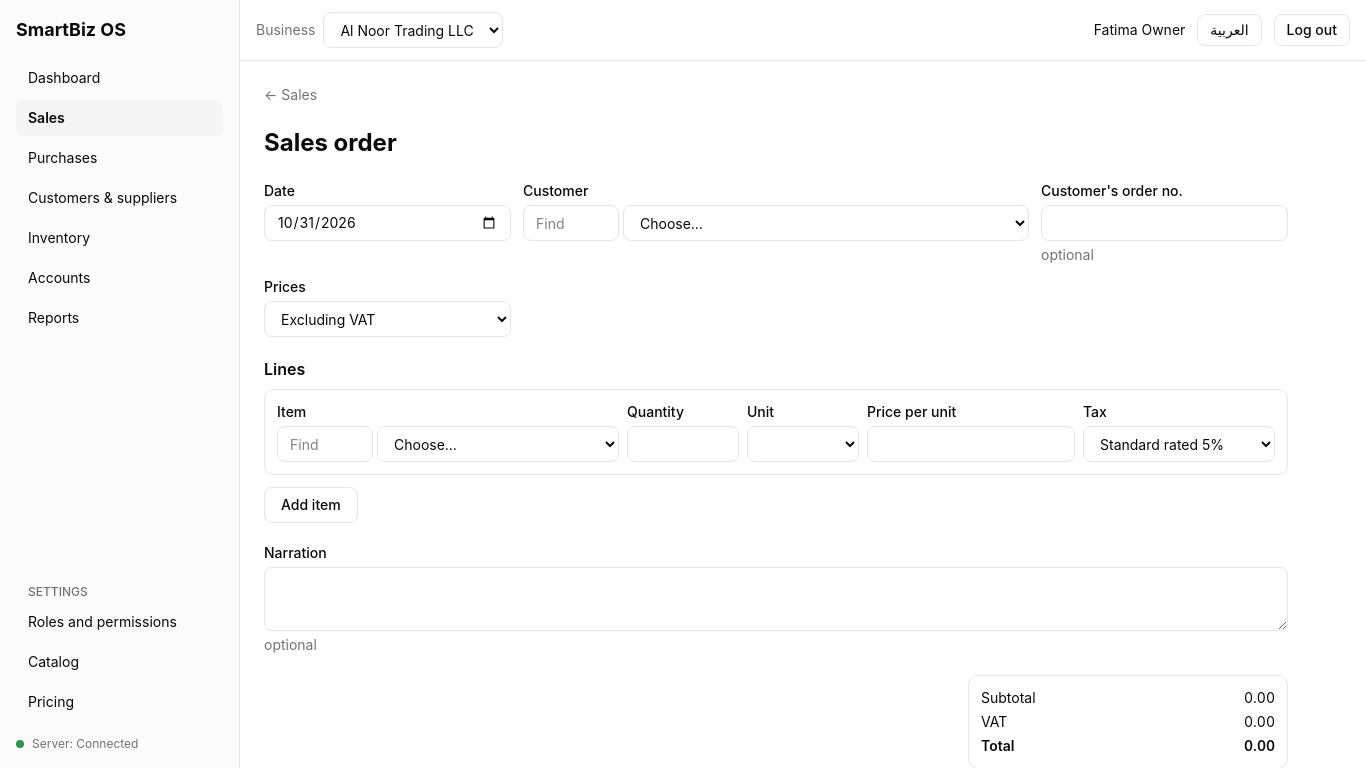
Test: Sales screens › lets someone allowed post past a credit block with a reason
Select "C0001 Ali Traders" in the dropdown labelled "Customer" at (826, 223), box x1=623 y1=205 x2=1029 y2=241
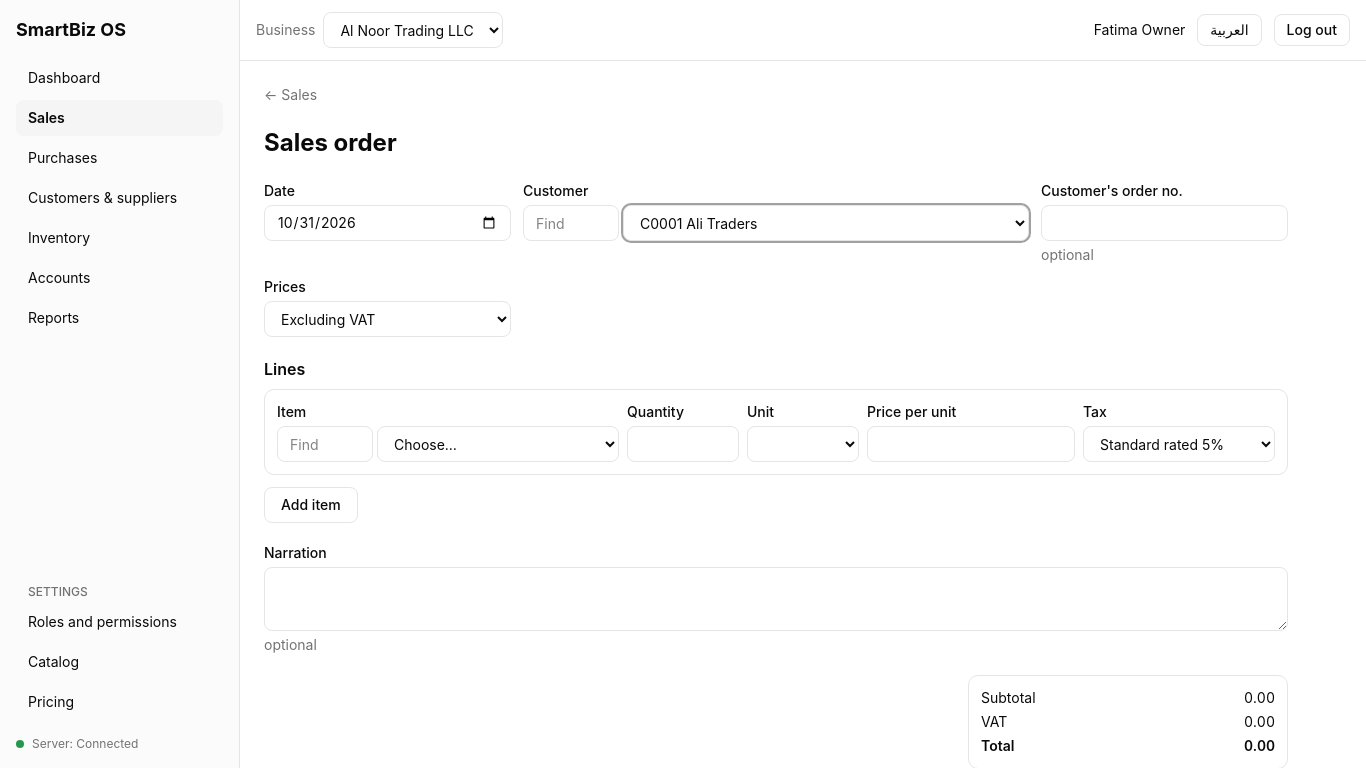
Select "FAB Fabric" in the dropdown labelled "Item" at (498, 444), box x1=377 y1=426 x2=619 y2=462
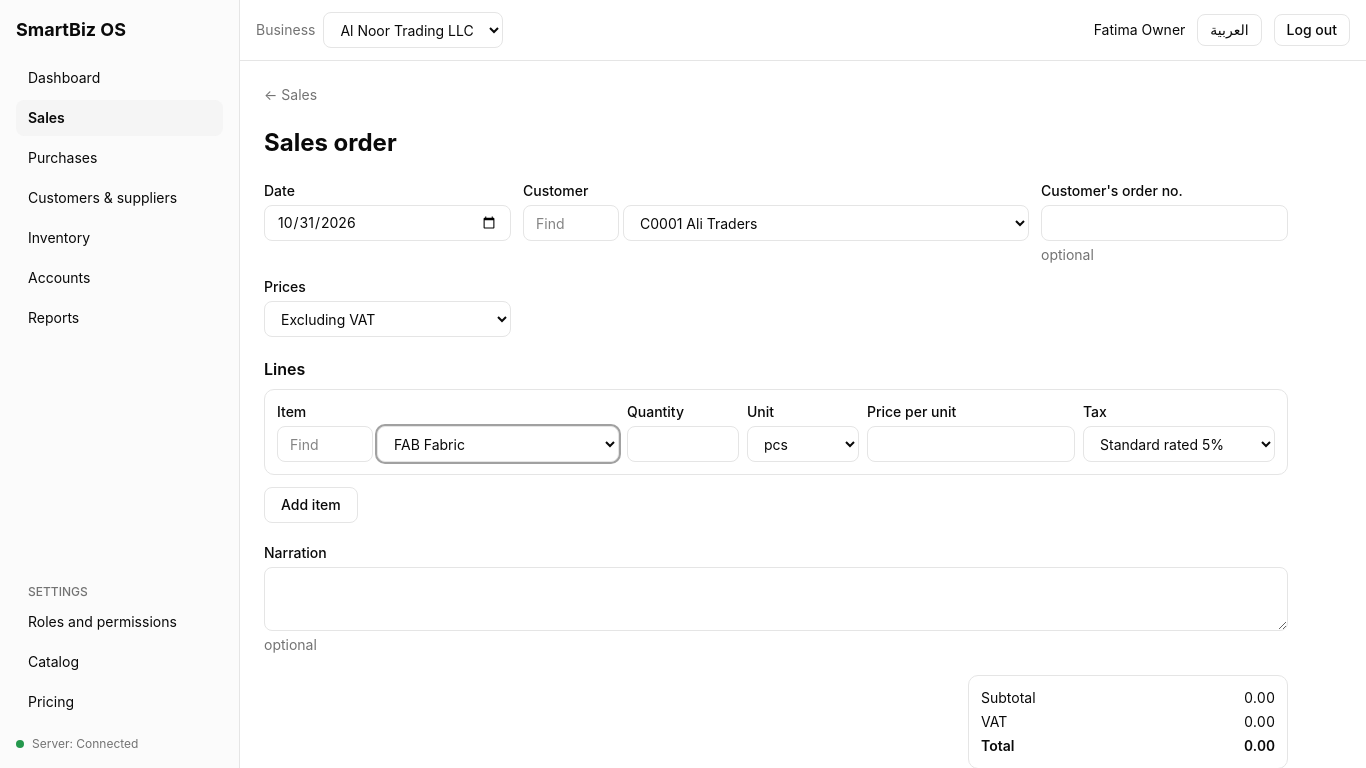
Now the dropdown labelled "Unit" shows "pcs", box x1=747 y1=426 x2=859 y2=462
Type "10" into the field labelled "Quantity" at (683, 444), box x1=627 y1=426 x2=739 y2=462
(page scrolled)
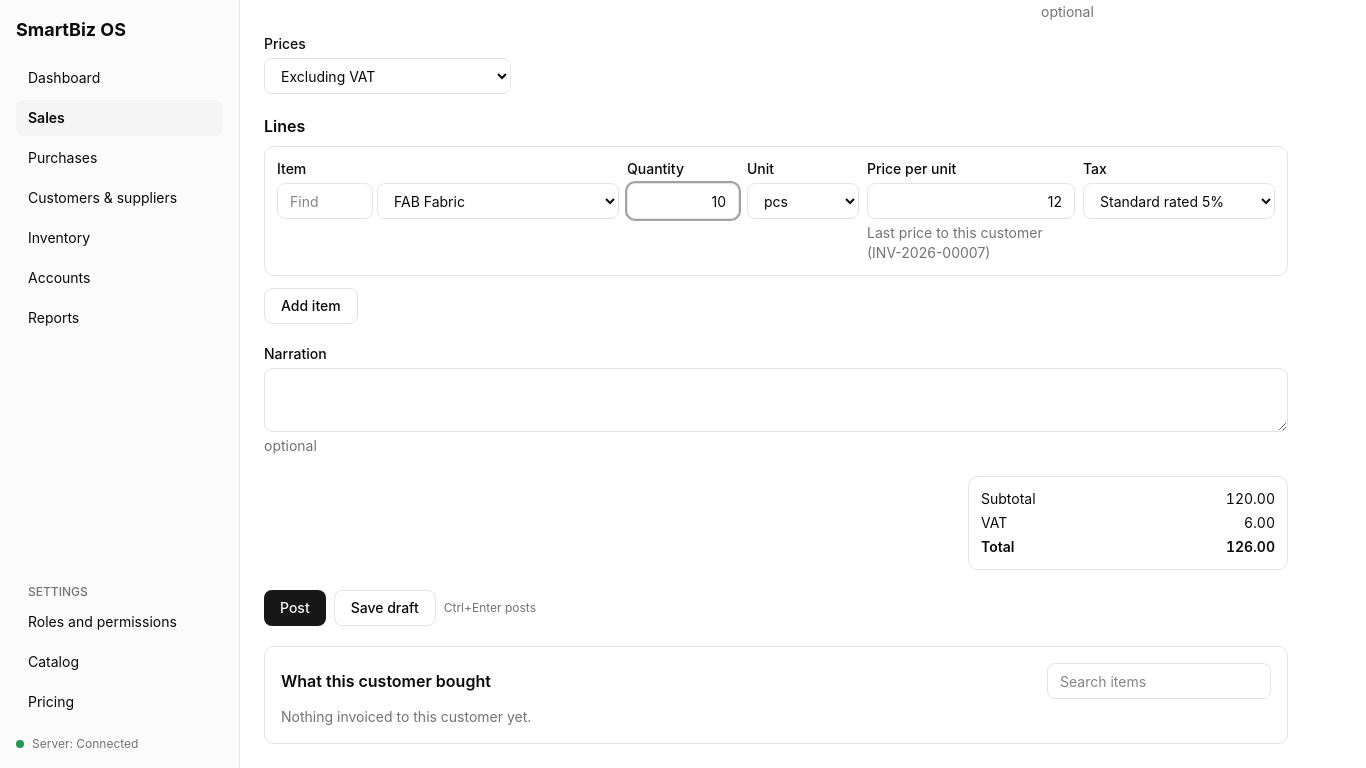
Now the field labelled "Price per unit" holds "12", box x1=867 y1=183 x2=1075 y2=219
Click the button "Post" at (295, 608), box x1=264 y1=590 x2=326 y2=626
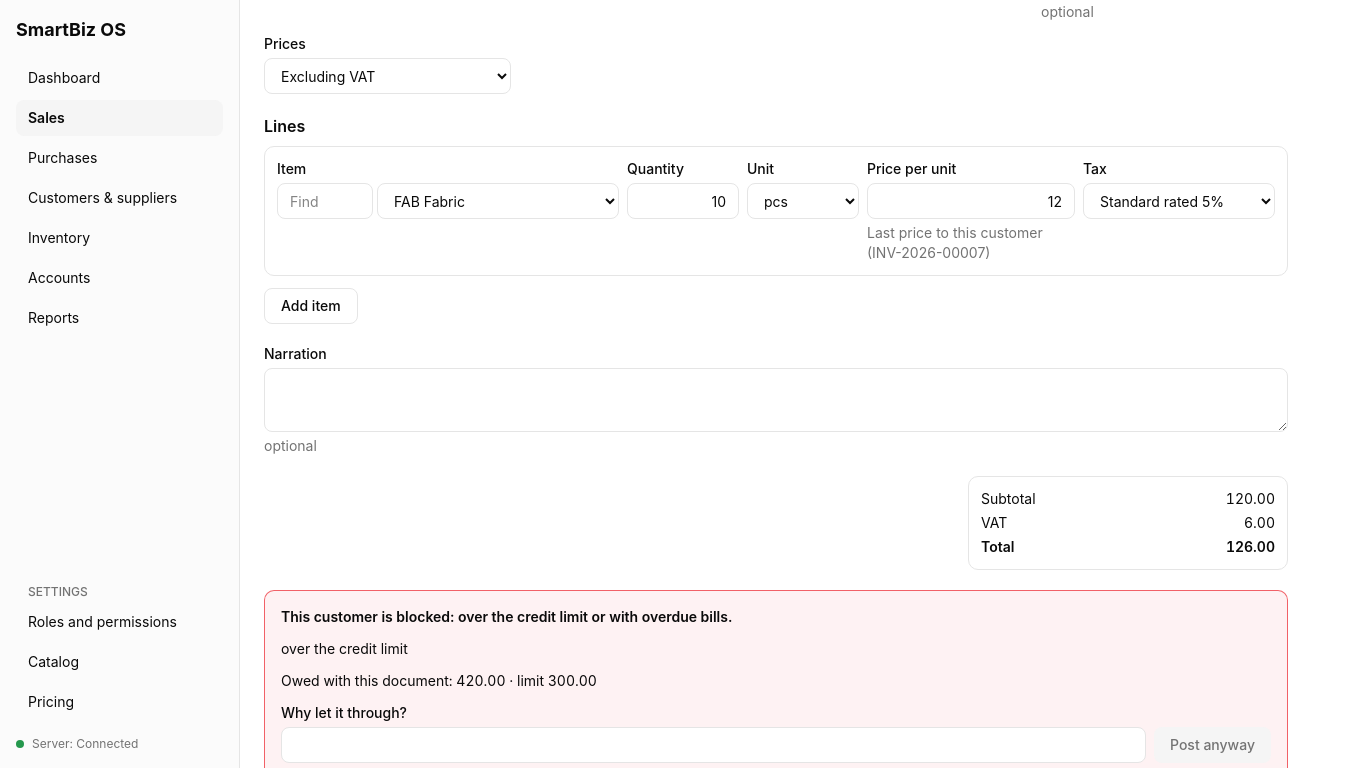
Now the text "This customer is blocked" is shown, box x1=281 y1=608 x2=732 y2=625
Now the text "Owed with this document: 420.00 · limit 300.00" is shown, box x1=281 y1=672 x2=597 y2=689
Type "pays Thursday" into the field labelled "Why let it through?" at (714, 745), box x1=281 y1=727 x2=1146 y2=763
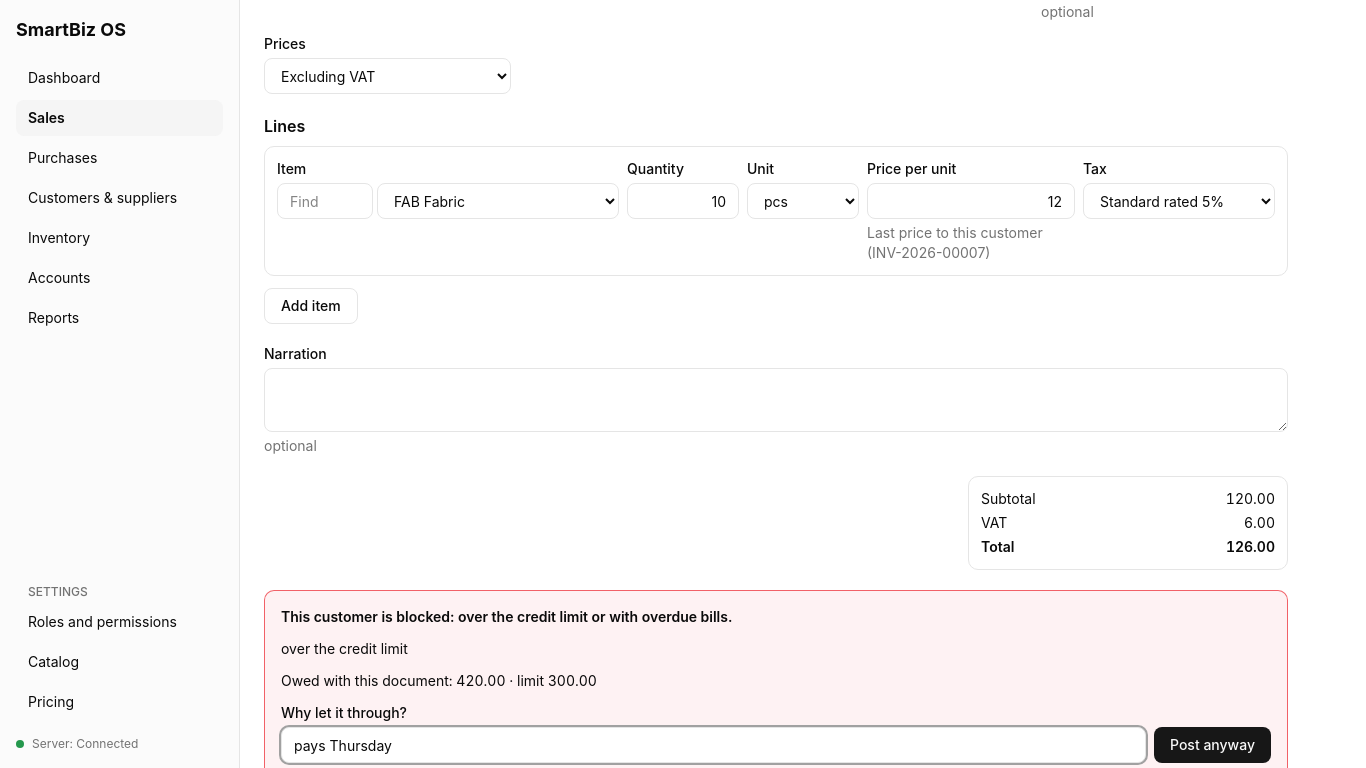
Click the button "Post anyway" at (1212, 745), box x1=1154 y1=727 x2=1271 y2=763
(page scrolled)
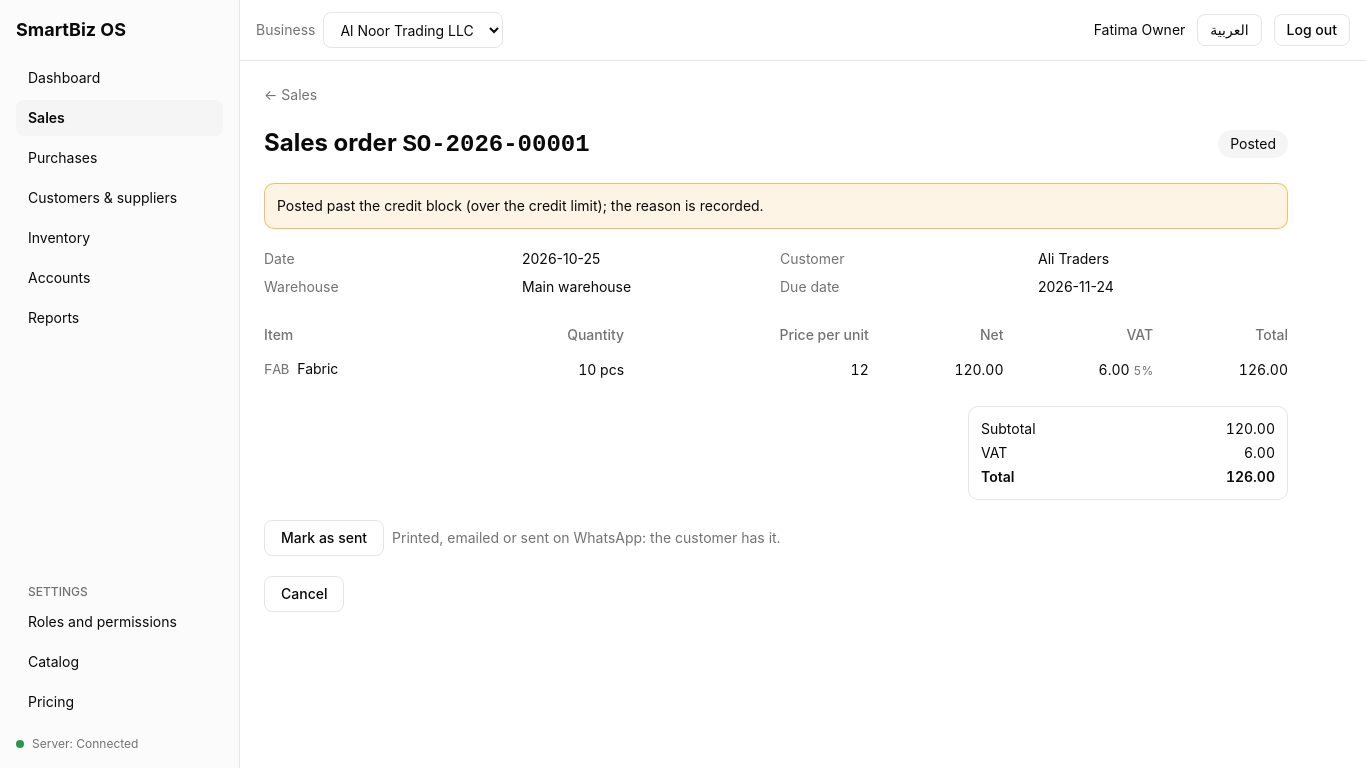
Now the list item "Posted past the credit block" is shown, box x1=277 y1=197 x2=764 y2=214
